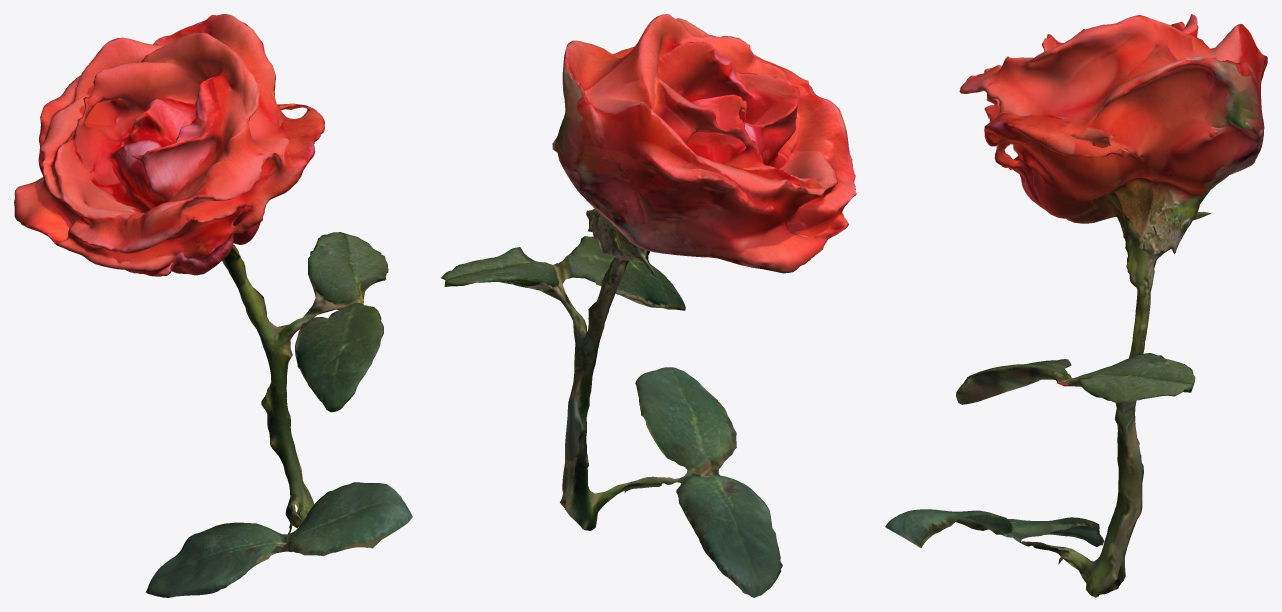
File: businesswebsiteLinkPlant.glb
The picture shows the model from 3 angles, left to right: view 1: azimuth 30°, elevation 25°; view 2: azimuth 150°, elevation 25°; view 3: azimuth 270°, elevation 25°; orthographic projection. The views are drawn at different scales.
Visible parts, largest first — view 1: Object_2; view 2: Object_2; view 3: Object_2.
Part boxes in pixels (box(x1,y1,x2,y2)): Object_2: box(14, 14, 412, 597); Object_2: box(441, 14, 856, 597); Object_2: box(885, 14, 1267, 597).
Bounding box in the file's own units: 0.9177 × 1.32 × 0.8003.
1 material, 1 textured.
